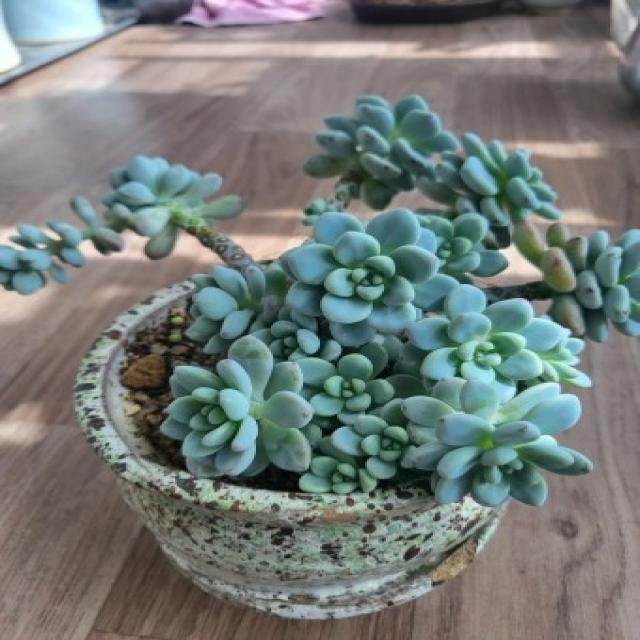LumiRose: (401, 378, 593, 506), (281, 209, 458, 346), (160, 335, 313, 477), (297, 352, 395, 423)
